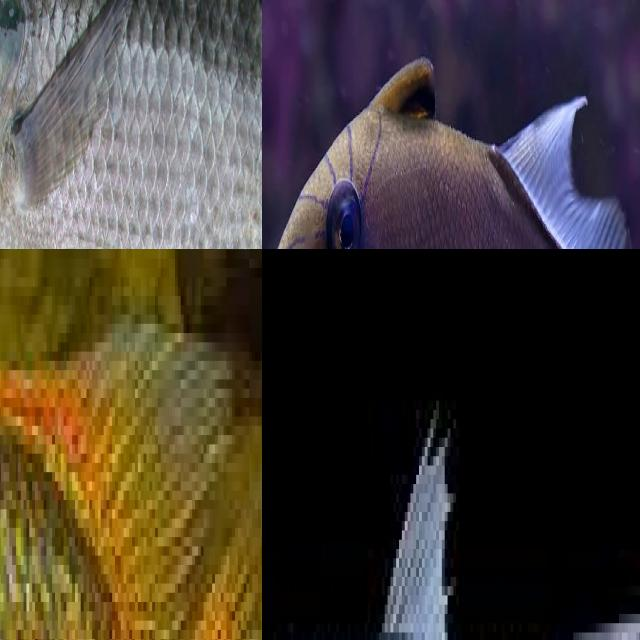fish: (262, 391, 640, 640), (0, 333, 262, 640), (0, 0, 262, 249)
